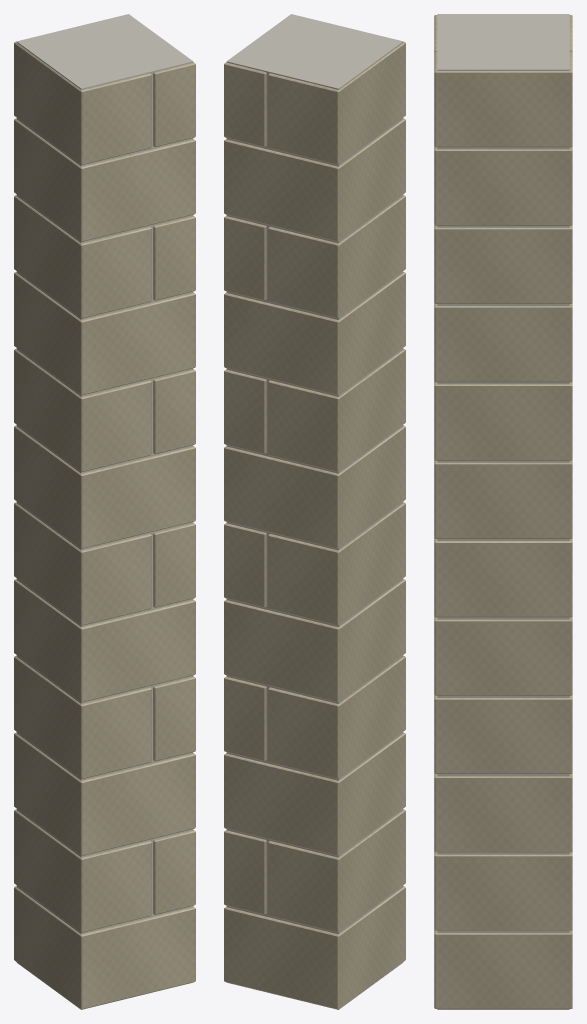
The model's file is pier.glb.
The picture shows the model from 3 angles, left to right: view 1: azimuth 30°, elevation 25°; view 2: azimuth 150°, elevation 25°; view 3: azimuth 270°, elevation 25°; orthographic projection. The views are drawn at different scales.
Parts seen in each view (by area): view 1: pier; view 2: pier; view 3: pier.
Part boxes in pixels (box(x1,y1,x2,y2)): pier: box(14, 14, 195, 1009); pier: box(224, 14, 405, 1009); pier: box(434, 14, 572, 1009).
Size of the model in its own units: 0.392 by 3 by 0.4.
Materials: 2 (1 with a texture image).
